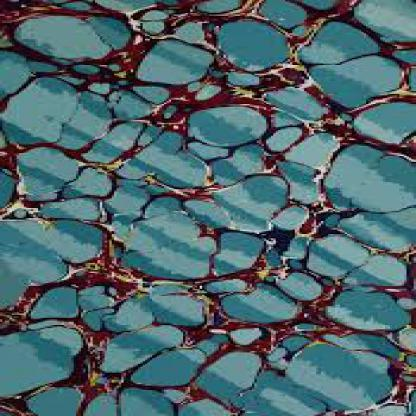Metamorphic_Marble: (0, 215, 110, 311), (278, 330, 397, 414), (0, 75, 112, 155), (316, 138, 414, 216), (304, 228, 414, 293), (10, 9, 131, 68), (178, 172, 292, 230), (95, 274, 226, 324), (0, 325, 83, 397), (121, 33, 219, 90), (290, 16, 397, 66), (181, 102, 266, 148), (347, 94, 414, 150)
